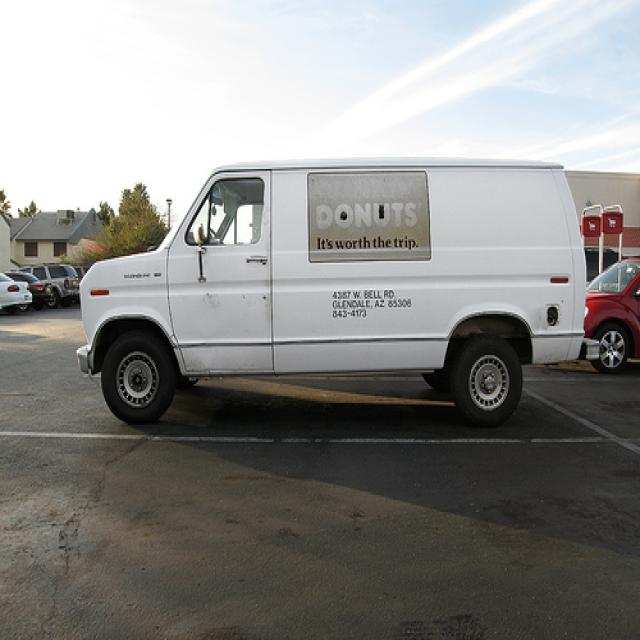car: (75, 150, 591, 428), (586, 259, 640, 377), (18, 266, 80, 307), (1, 270, 53, 311), (1, 269, 32, 317)
